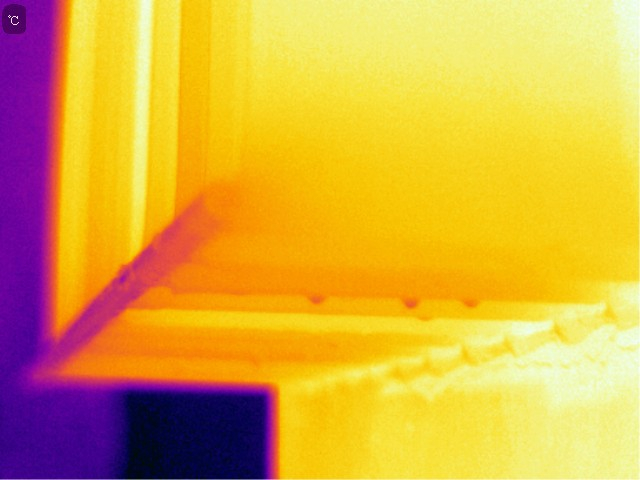Oil: (304, 287, 329, 305), (394, 294, 419, 309), (460, 297, 486, 308), (415, 311, 434, 325)
